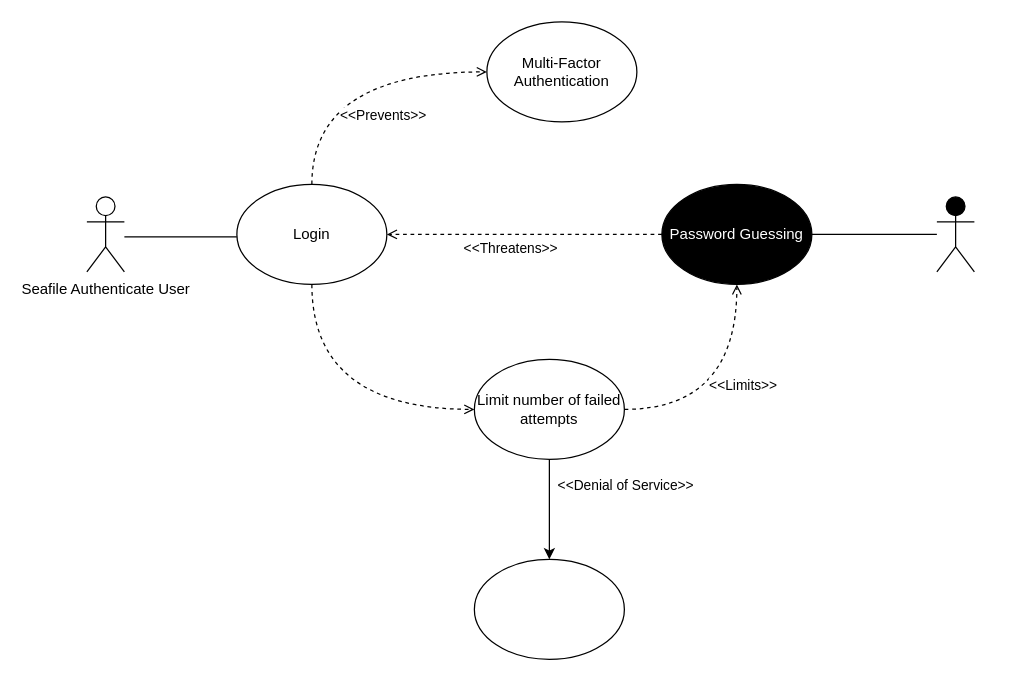
The diagram is 1019 pixels wide and 681 high, and some of its shapes have lost their labels. Here are the shapes that lost their labels. From the top down, the box of each, then its label:
(936, 196, 974, 272): Script Kiddie
(473, 558, 624, 659): Lock account
